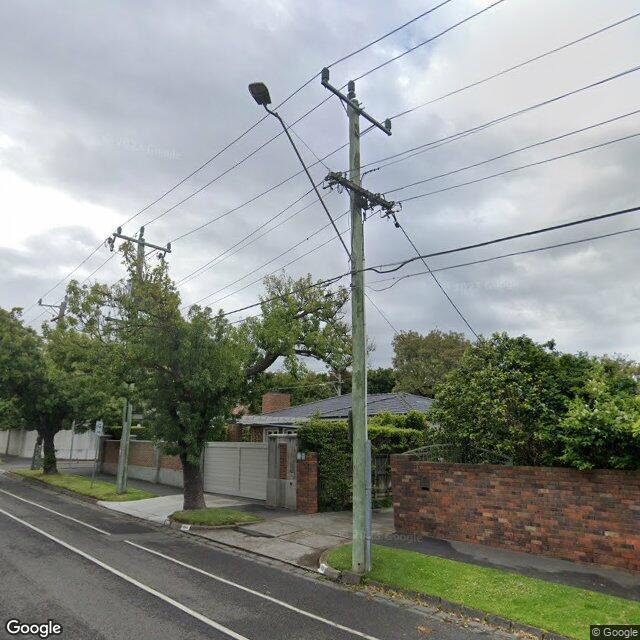HV-transmission: (321, 67, 391, 132), (117, 226, 171, 250), (38, 295, 68, 305)
crossarm: (321, 79, 391, 136), (329, 172, 392, 209), (113, 233, 171, 253), (39, 304, 70, 308), (51, 314, 65, 322)
streetlight: (249, 82, 352, 262)
timber-pole: (349, 99, 371, 573), (116, 238, 145, 495), (32, 302, 66, 470)
